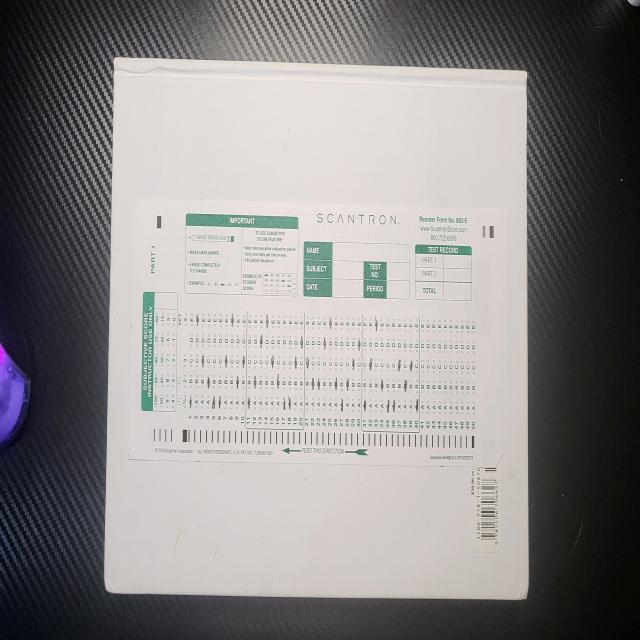scantron: (128, 195, 510, 468)
